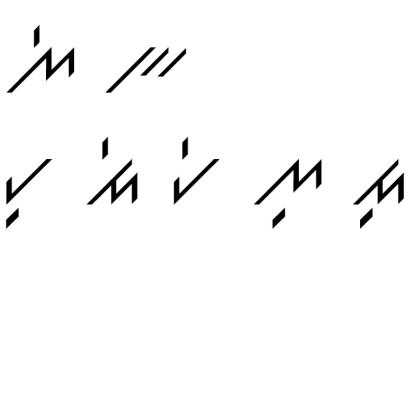de: (77, 134, 141, 211)
du: (349, 155, 413, 233)
ne: (5, 22, 84, 94)
nu: (250, 152, 331, 233)
pe: (166, 134, 230, 206)
pu: (5, 149, 60, 233)
